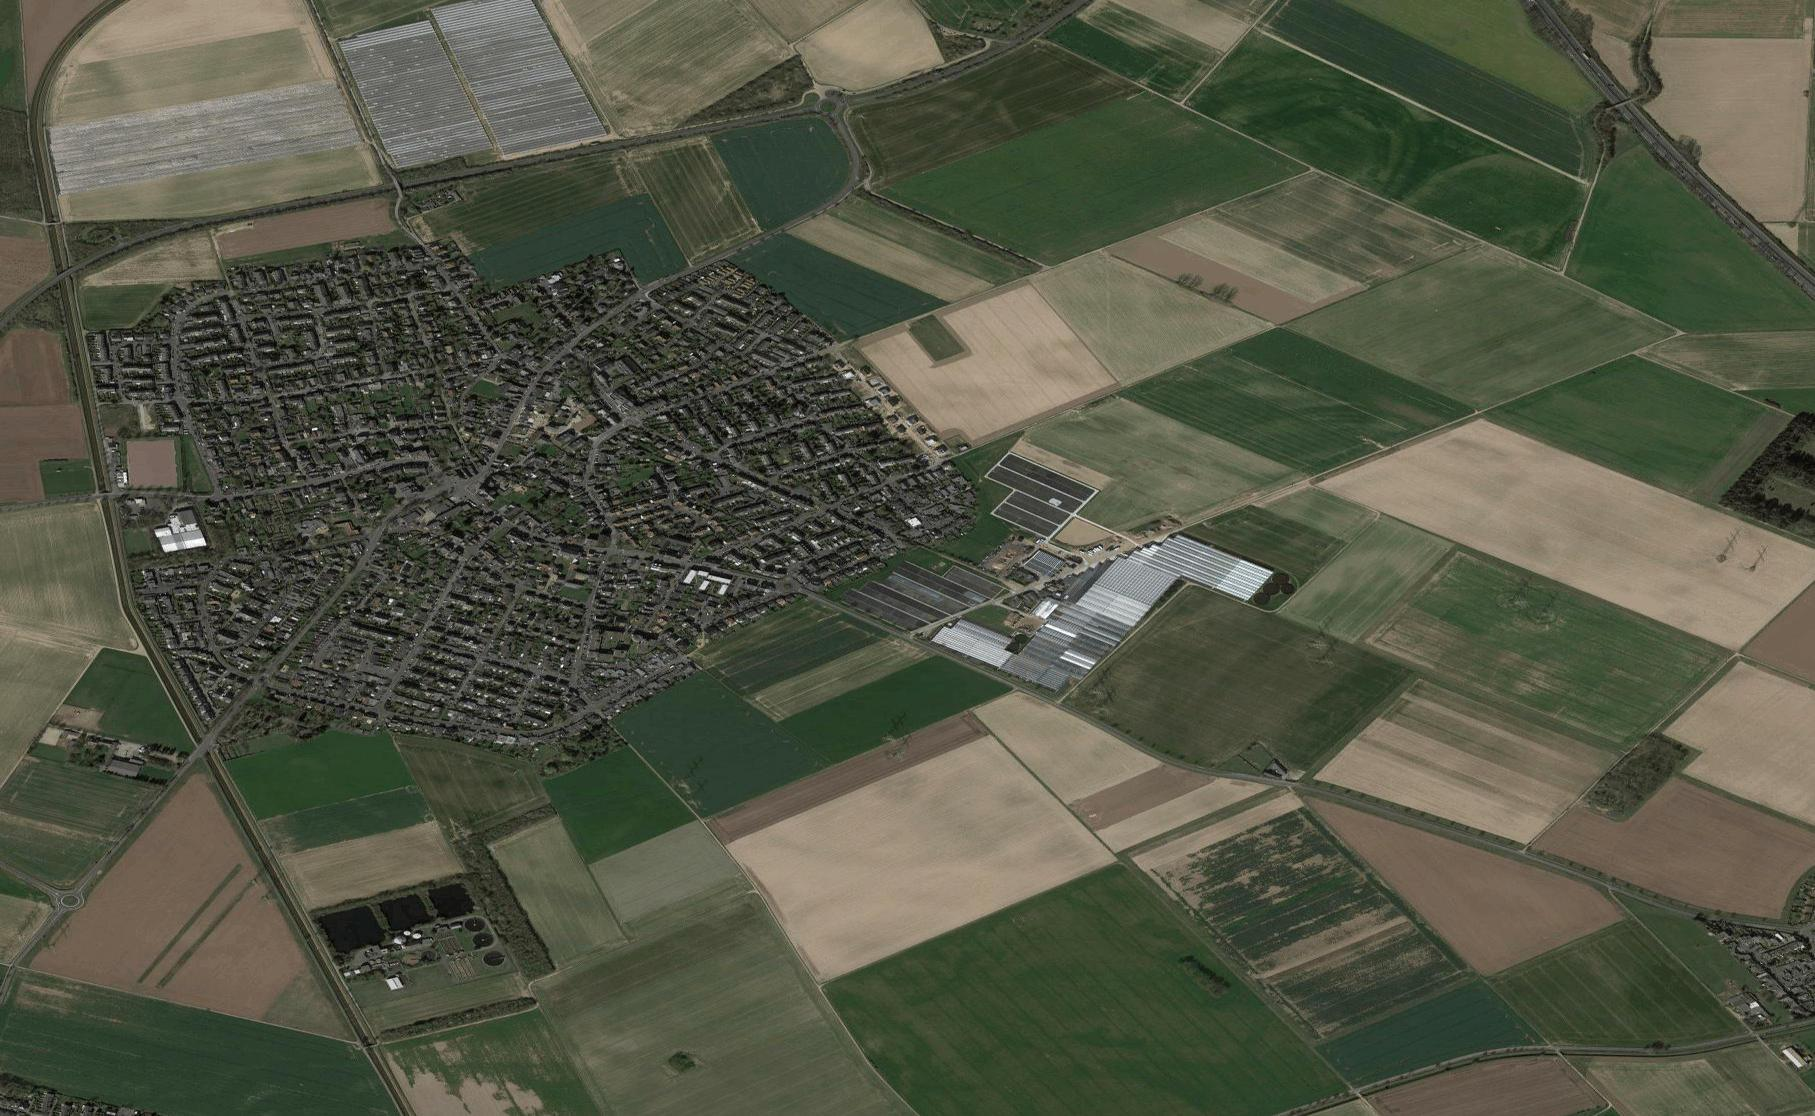industrial: (944, 491, 1293, 727)
motorway: (1640, 128, 1815, 297), (1528, 1, 1645, 137)
